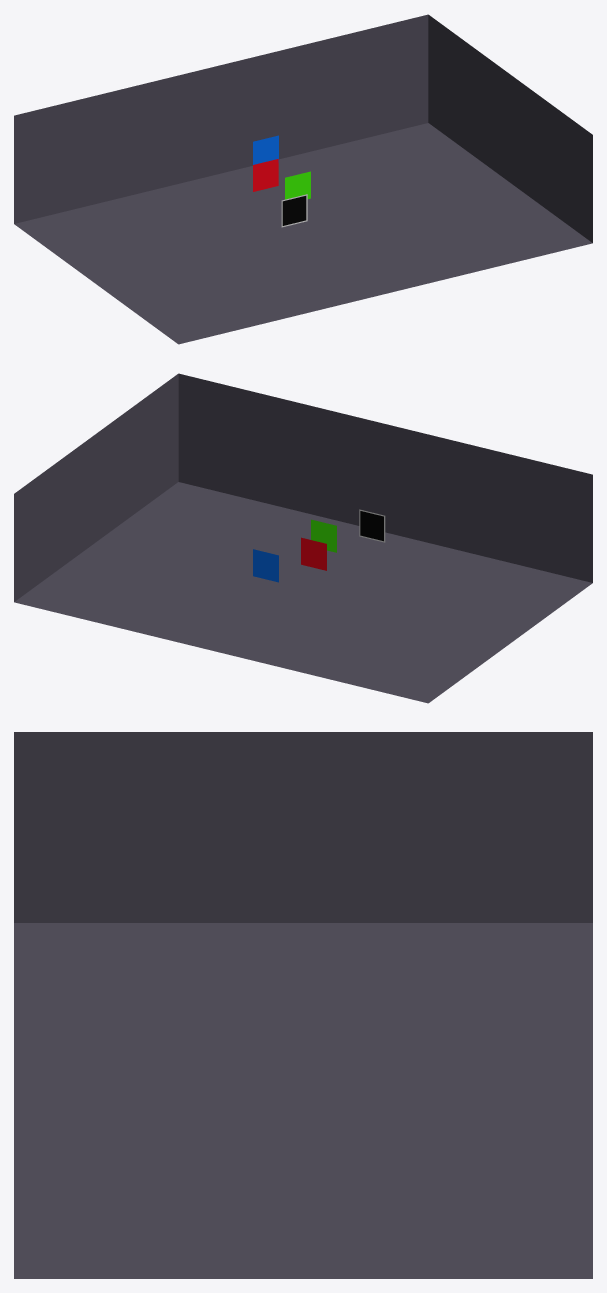
The model's file is blendmodes.gltf.
3 views of the same model, one above another, from view 1: azimuth 30°, elevation 25°; view 2: azimuth 150°, elevation 25°; view 3: azimuth 270°, elevation 25° (orthographic). The views are drawn at different scales.
Parts seen in each view (by area): view 1: White, Blue.002, Red, Blue, Blue.001; view 2: White, Blue.002, Red, Blue, Blue.001; view 3: White.
Part boxes in pixels (x1,y1,x2,y2): White: [14, 14, 592, 344]; Blue.002: [281, 194, 307, 227]; Red: [253, 159, 278, 191]; Blue: [253, 135, 278, 164]; Blue.001: [285, 171, 310, 199]; White: [14, 373, 592, 703]; Blue.002: [359, 509, 385, 542]; Red: [301, 537, 326, 570]; Blue: [253, 549, 278, 582]; Blue.001: [311, 519, 336, 552]; White: [14, 732, 592, 1278].
Bounding box in the file's own units: 32 × 8 × 22.
